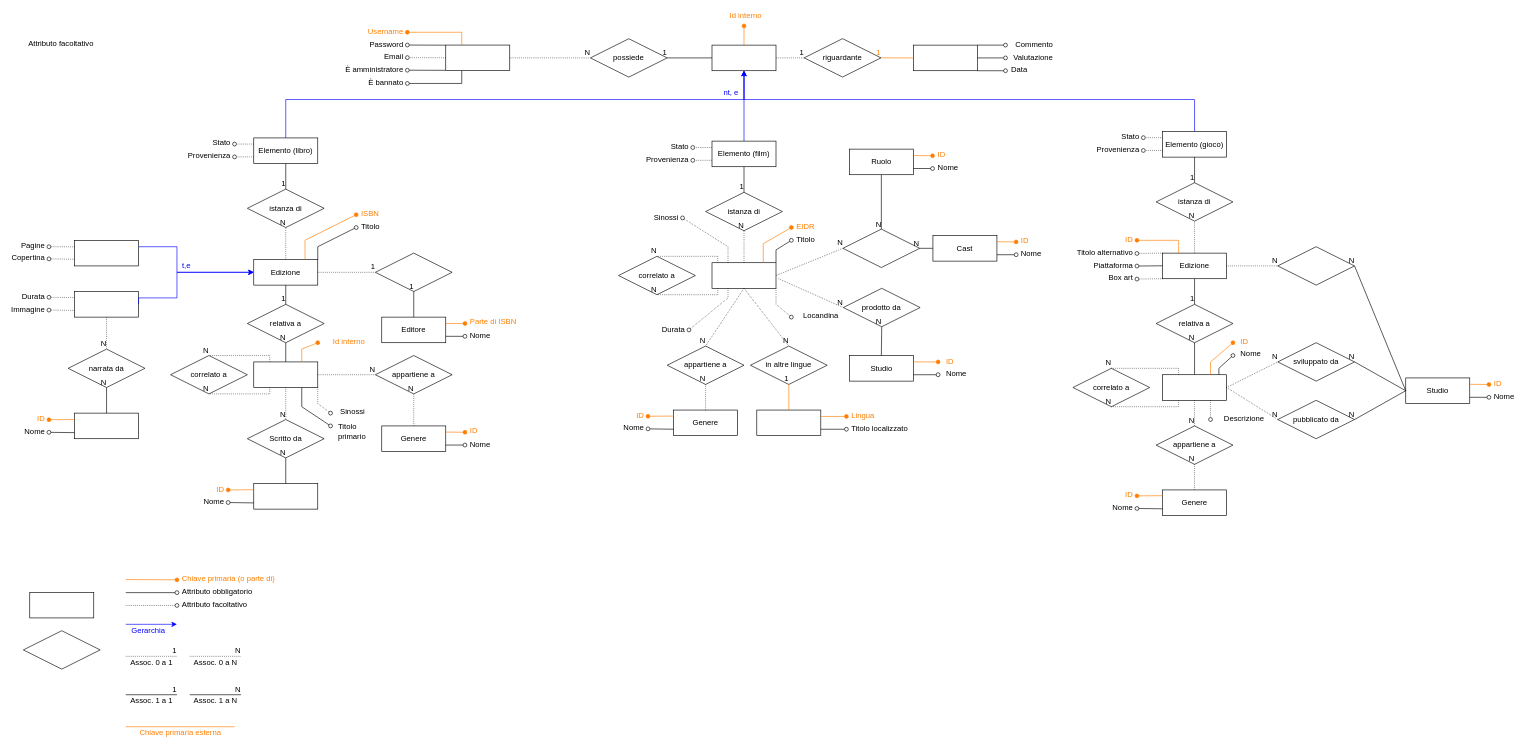
The diagram is 1526 pixels wide and 751 high, and some of its shapes have lost their labels. The shapes that lost their labels are listed below. From the top down, each one's centre as x and y in pixels, then its label:
At [477,57]: "Utente".
At [743,57]: "Elemento".
At [945,57]: "Recensione".
At [106,253]: "Edizione (libro)".
At [881,248]: "vi ha preso parte".
At [1316,265]: "portato da".
At [413,272]: "pubblicata da".
At [743,275]: "Film".
At [106,304]: "Edizione (audiolibro)".
At [285,374]: "Libro".
At [1194,387]: "Gioco".
At [106,425]: "Narratore".
At [788,422]: "Localizzazione".
At [285,496]: "Autore".
At [61,605]: "Entità".
At [61,649]: "Relazione".
